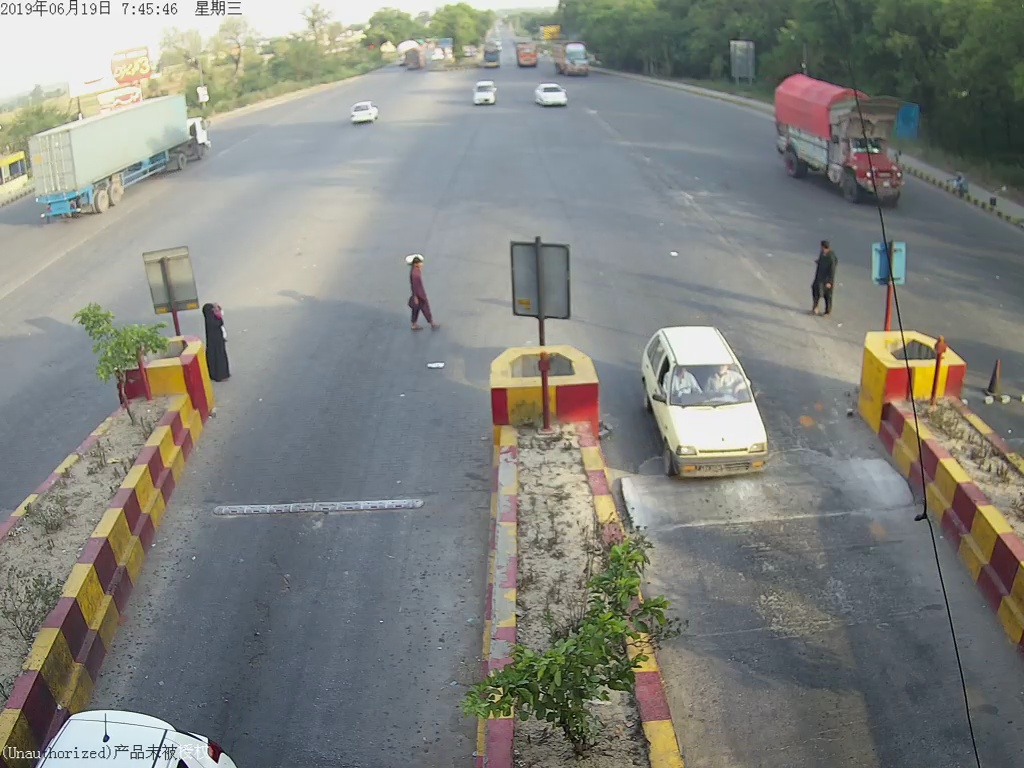Cat-1: (643, 320, 778, 483)
